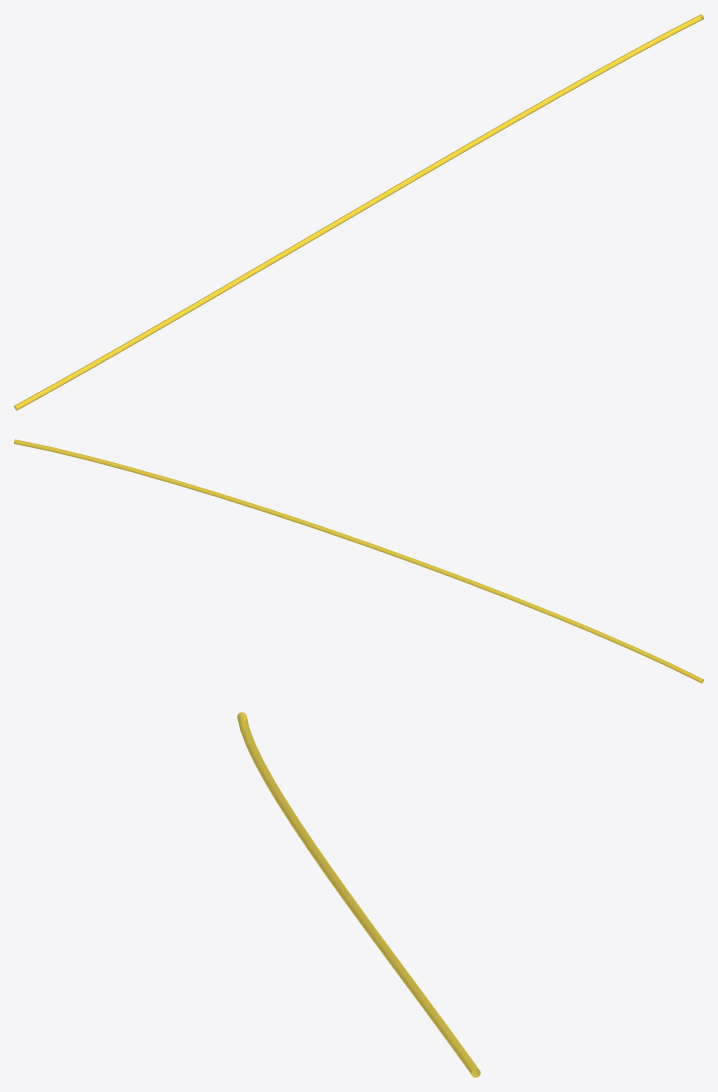
The model's file is Event_419990632_track_33.fbx.
The picture shows the model from 3 angles, top to bottom: view 1: azimuth 30°, elevation 25°; view 2: azimuth 150°, elevation 25°; view 3: azimuth 270°, elevation 25°; orthographic projection. The views are drawn at different scales.
Visible parts, largest first — view 1: Model; view 2: Model; view 3: Model.
Part boxes in pixels (x1=…): Model: x1=14, y1=14, x2=703, y2=410; Model: x1=14, y1=439, x2=703, y2=683; Model: x1=237, y1=712, x2=480, y2=1077.
Bounding box in the file's own units: 6.1 × 1.23 × 1.02.
